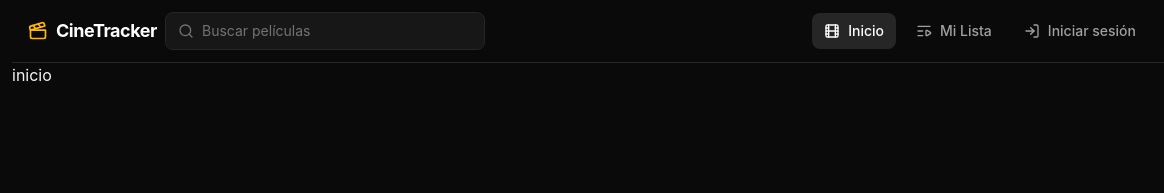
Navbar suggestions › debounces the typing into a single search request
This screenshot has width=1164, height=193.
Type "ma" into the dropdown labelled "Buscar películas" at (337, 31), box [202,21,472,41]
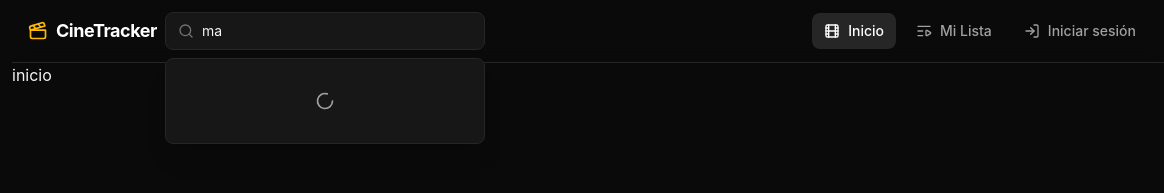
Replace the text in the dropdown named "Buscar películas" with "mat" at (337, 31), box [202,21,472,41]
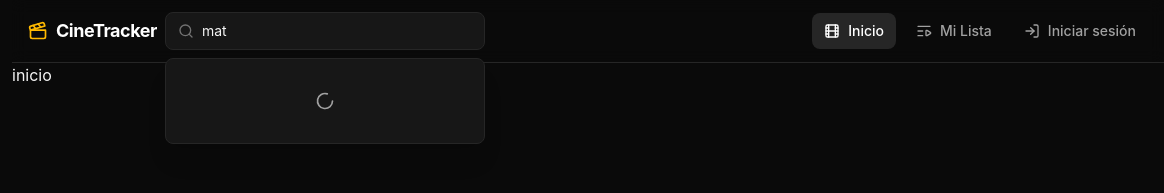
Replace the text in the dropdown named "Buscar películas" with "matrix" at (337, 31), box [202,21,472,41]
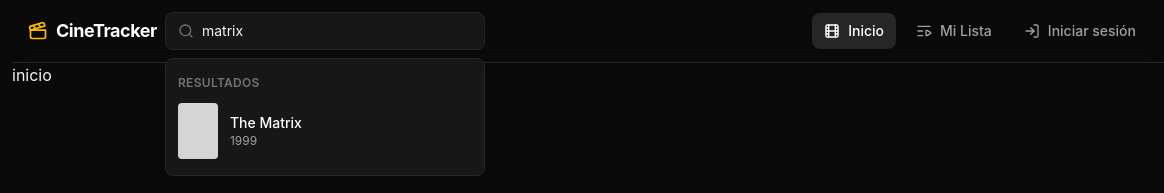
Check: the text "Resultados" is shown, box [178,75,260,90]
